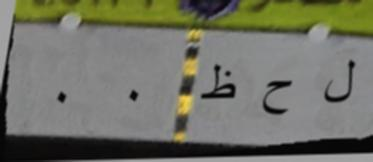0: (119, 80, 152, 110), (46, 80, 76, 110)
7aa: (254, 72, 300, 118)
Thaa: (197, 56, 240, 104)
laam: (314, 53, 363, 106)
